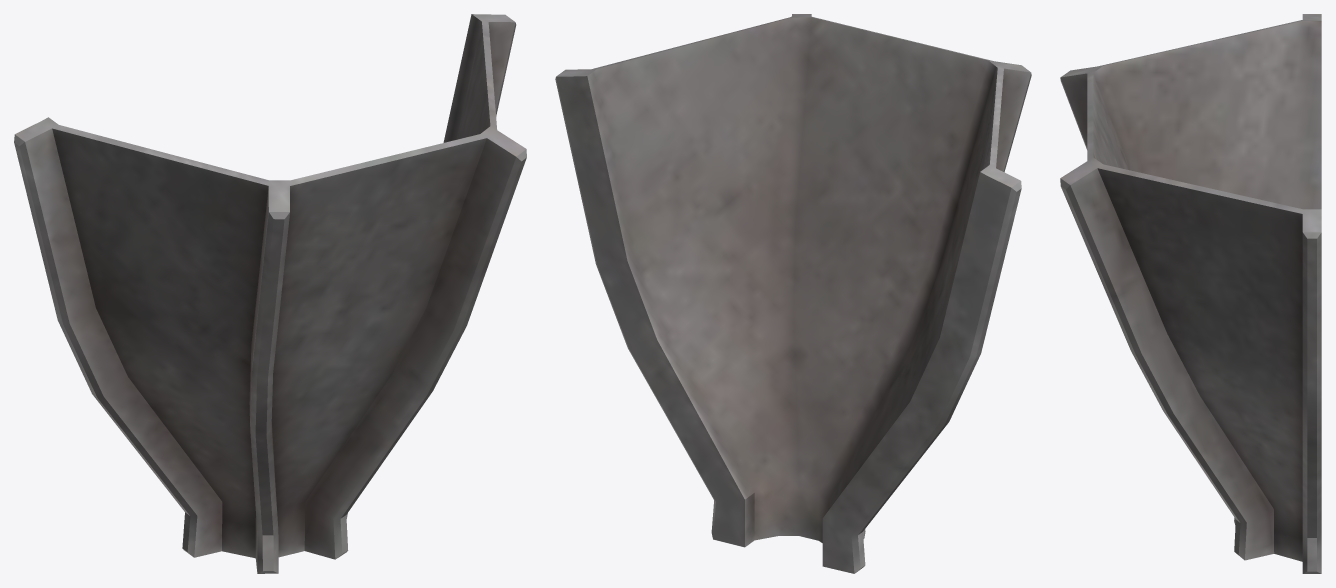
File: patrick-wall-lamp.glb
The picture shows the model from 3 angles, left to right: view 1: azimuth 30°, elevation 25°; view 2: azimuth 150°, elevation 25°; view 3: azimuth 270°, elevation 25°; orthographic projection. The views are drawn at different scales.
Parts seen in each view (by area): view 1: Wall_Light; view 2: Wall_Light; view 3: Wall_Light.
Part boxes in pixels (x1,y1,x2,y2): Wall_Light: (14, 14, 526, 573); Wall_Light: (555, 14, 1031, 573); Wall_Light: (1060, 14, 1321, 573).
Bounding box in the file's own units: 0.0235 × 0.0211 × 0.0117.
1 material, 1 textured.
